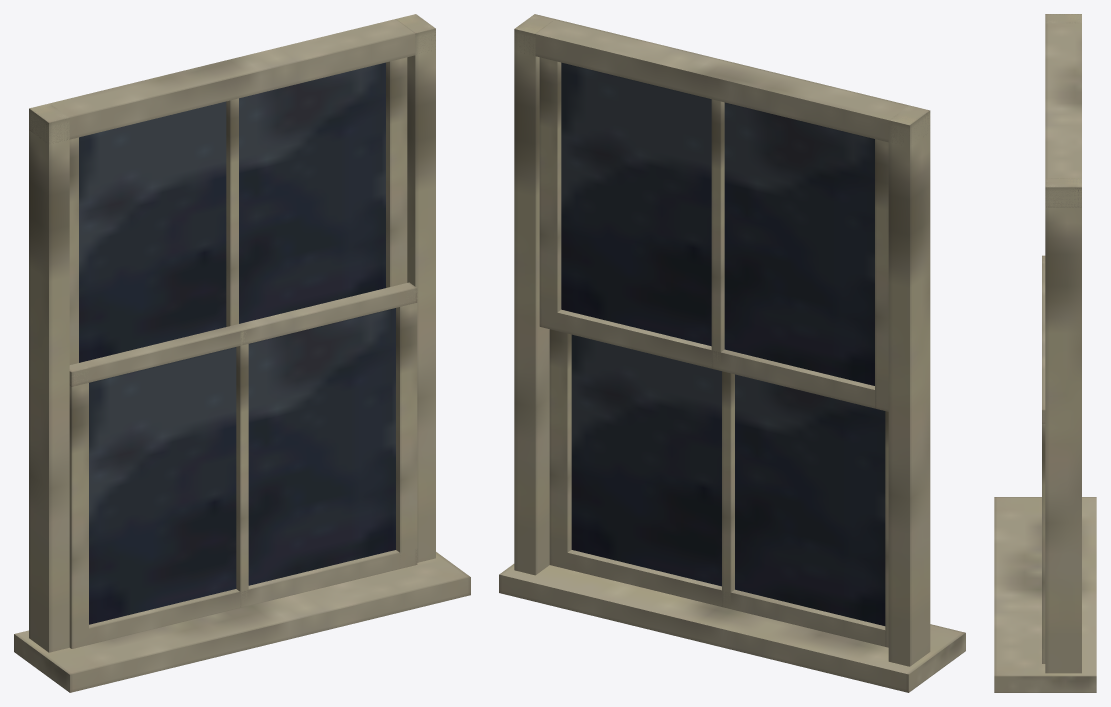
The model's file is window_sash.fbx.
The picture shows the model from 3 angles, left to right: view 1: azimuth 30°, elevation 25°; view 2: azimuth 150°, elevation 25°; view 3: azimuth 270°, elevation 25°; orthographic projection. The views are drawn at different scales.
Visible parts, largest first — view 1: window_sash, window_sash_lower; view 2: window_sash, window_sash_lower; view 3: window_sash, window_sash_lower.
Boxes of the visible parts, x1,y1,x2,y2 form: window_sash: [14, 14, 470, 692]; window_sash_lower: [69, 282, 417, 648]; window_sash: [499, 14, 965, 692]; window_sash_lower: [549, 329, 888, 647]; window_sash: [994, 14, 1096, 692]; window_sash_lower: [1042, 255, 1045, 663].
Size of the model in its own units: 1.16 by 1.51 by 0.28.
1 material, 1 textured.
